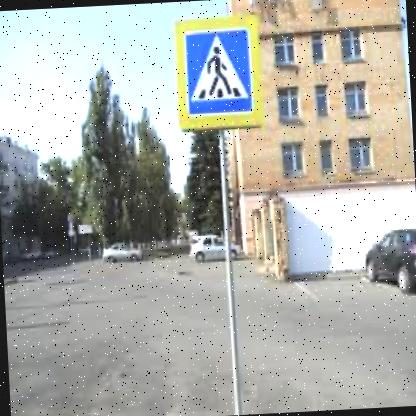crosswalk: (183, 28, 250, 115)
